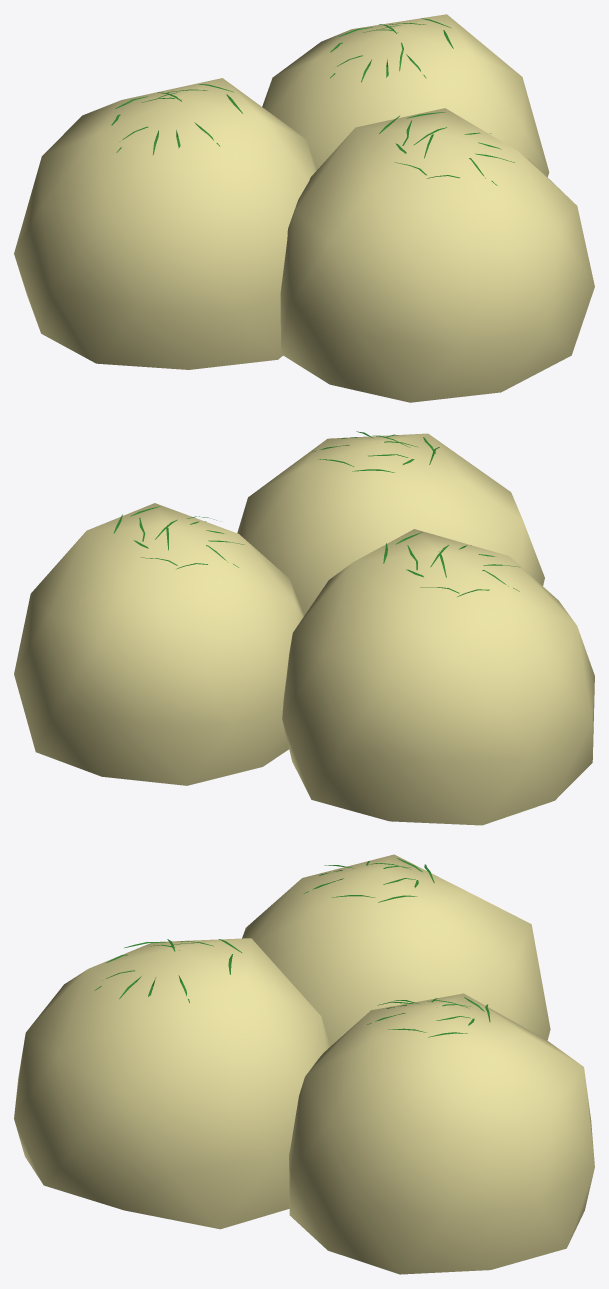
The model's file is potatoes.fbx.
3 views of the same model, one above another, from view 1: azimuth 30°, elevation 25°; view 2: azimuth 150°, elevation 25°; view 3: azimuth 270°, elevation 25° (orthographic). The views are drawn at different scales.
Visible parts, largest first — view 1: potatoes; view 2: potatoes; view 3: potatoes.
Boxes of the visible parts, <box> form: potatoes: <box>14,14,594,402</box>; potatoes: <box>14,431,594,825</box>; potatoes: <box>14,854,594,1274</box>.
Bounding box in the file's own units: 3.66 × 1.46 × 3.43.
